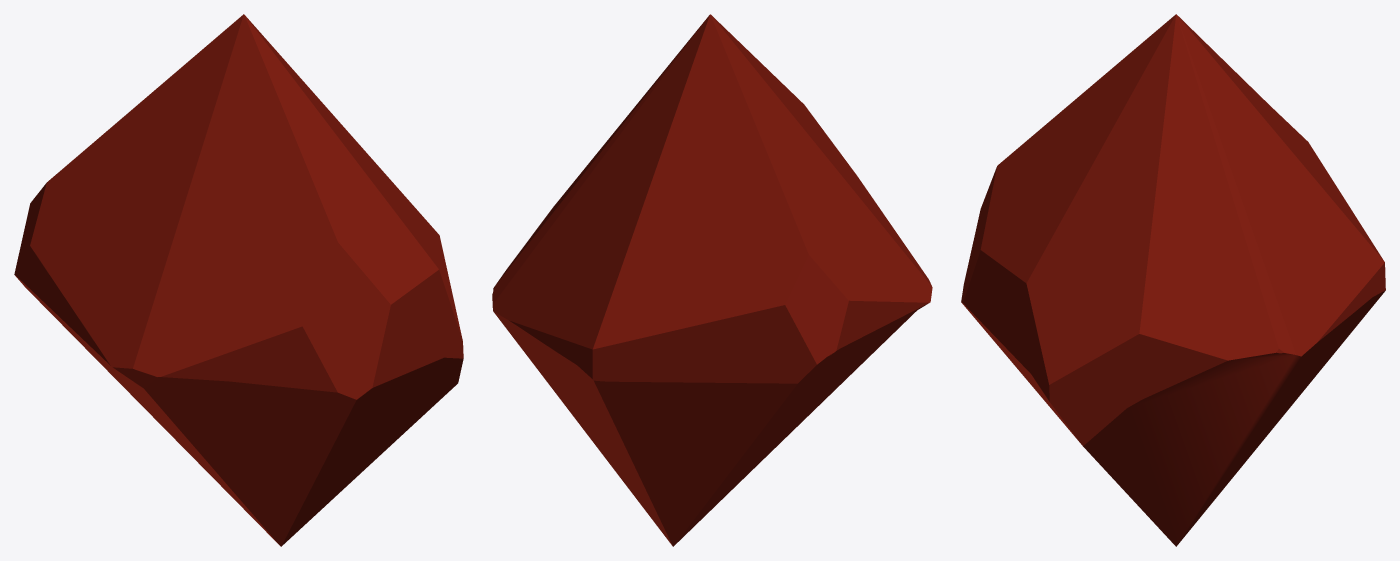
3 views of the same model, side by side, from view 1: azimuth 30°, elevation 25°; view 2: azimuth 150°, elevation 25°; view 3: azimuth 270°, elevation 25° (orthographic). The views are drawn at different scales.
Visible parts, largest first — view 1: GemTop; view 2: GemTop; view 3: GemTop.
Part boxes in pixels (x1=…): GemTop: x1=14, y1=14, x2=463, y2=546; GemTop: x1=492, y1=14, x2=932, y2=546; GemTop: x1=961, y1=14, x2=1385, y2=546.
Size of the model in its own units: 20.49 by 30.1 by 22.47.
